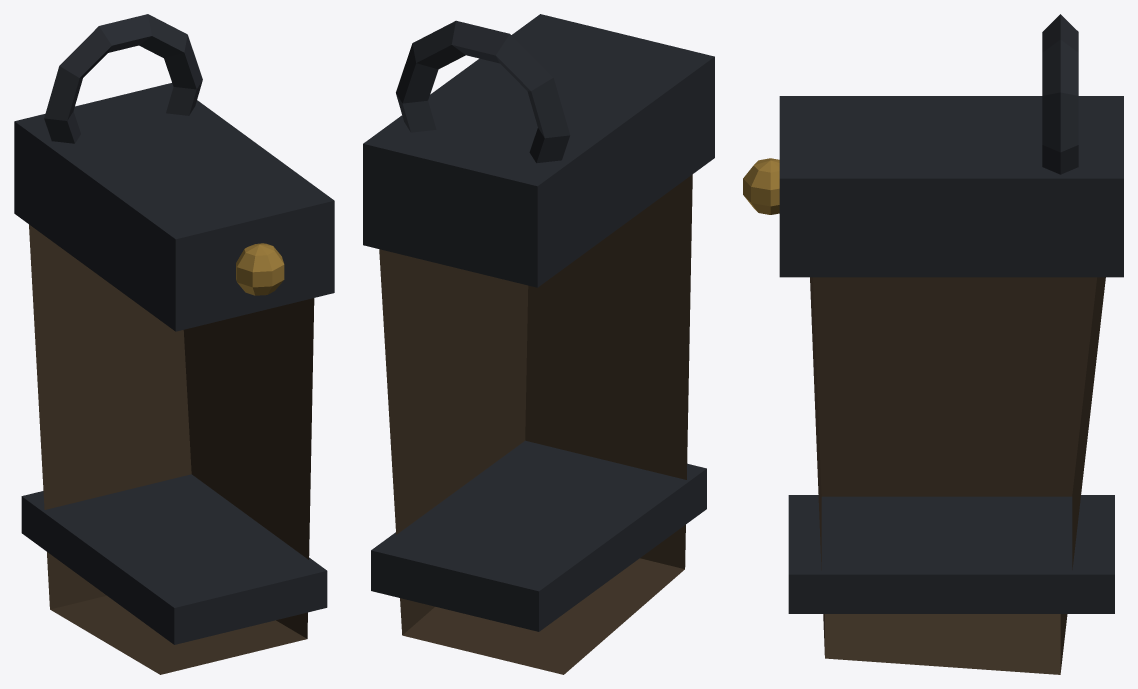
The model's file is holster.glb.
3 views of the same model, side by side, from view 1: azimuth 30°, elevation 25°; view 2: azimuth 150°, elevation 25°; view 3: azimuth 270°, elevation 25° (orthographic). The views are drawn at different scales.
Parts seen in each view (by area): view 1: m; view 2: m; view 3: m.
Boxes of the visible parts, x1,y1,x2,y2 form: m: (14, 14, 334, 674); m: (363, 14, 714, 674); m: (743, 14, 1123, 674).
Size of the model in its own units: 0.0494 by 0.17 by 0.0962.
